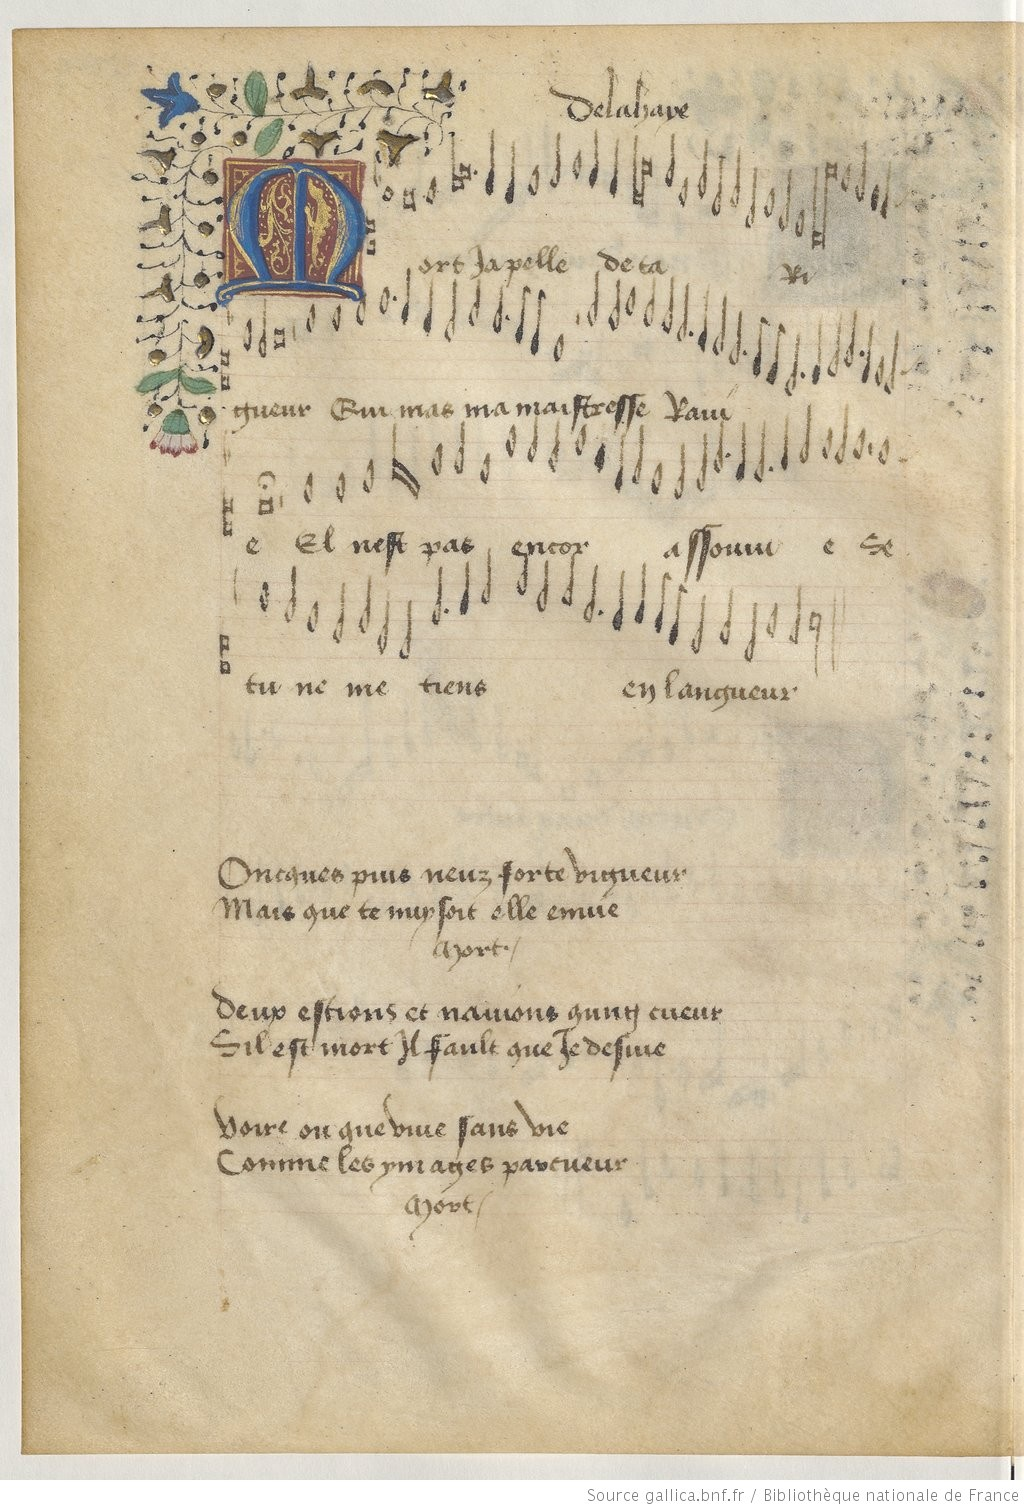accidental_5: (219, 409, 242, 468)
breve_10: (251, 490, 279, 525)
c clef_11: (218, 485, 239, 548)
colored semibreve_5: (589, 437, 611, 479)
custos_5: (891, 444, 922, 476)
fermata: (247, 453, 286, 498)
minim_4: (522, 409, 542, 472), (833, 404, 850, 472), (795, 405, 811, 470)
minim_5: (450, 416, 470, 481), (545, 414, 565, 478), (709, 416, 725, 478)
minim_6: (629, 422, 648, 489), (752, 420, 769, 489)
minim_7: (691, 429, 711, 498)
minim_8: (670, 436, 689, 505)
o1semibreve_6: (384, 423, 403, 504)
o2semibreve_8: (403, 423, 423, 504)
point: (761, 456, 779, 481), (718, 444, 735, 465)
semibreve rest: (275, 439, 291, 534), (865, 418, 881, 513)
semibreve_3: (502, 420, 522, 464), (570, 421, 591, 462), (850, 424, 869, 466), (818, 425, 835, 465)
semibreve_4: (874, 434, 894, 470)
semibreve_5: (427, 434, 450, 485)
semibreve_6: (474, 445, 499, 495)
semibreve_7: (358, 450, 381, 504), (647, 455, 667, 501)
semibreve_8: (297, 462, 322, 512), (329, 462, 352, 511)
semiminim_5: (777, 414, 794, 478)
semiminim_6: (734, 417, 750, 492)
semiminim_7: (610, 434, 627, 500)
